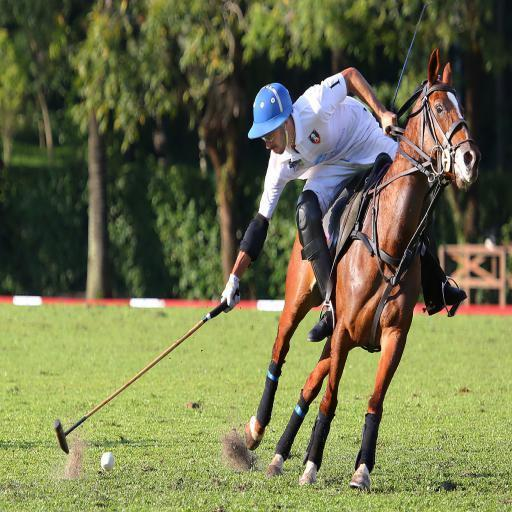horse: (246, 48, 482, 490)
